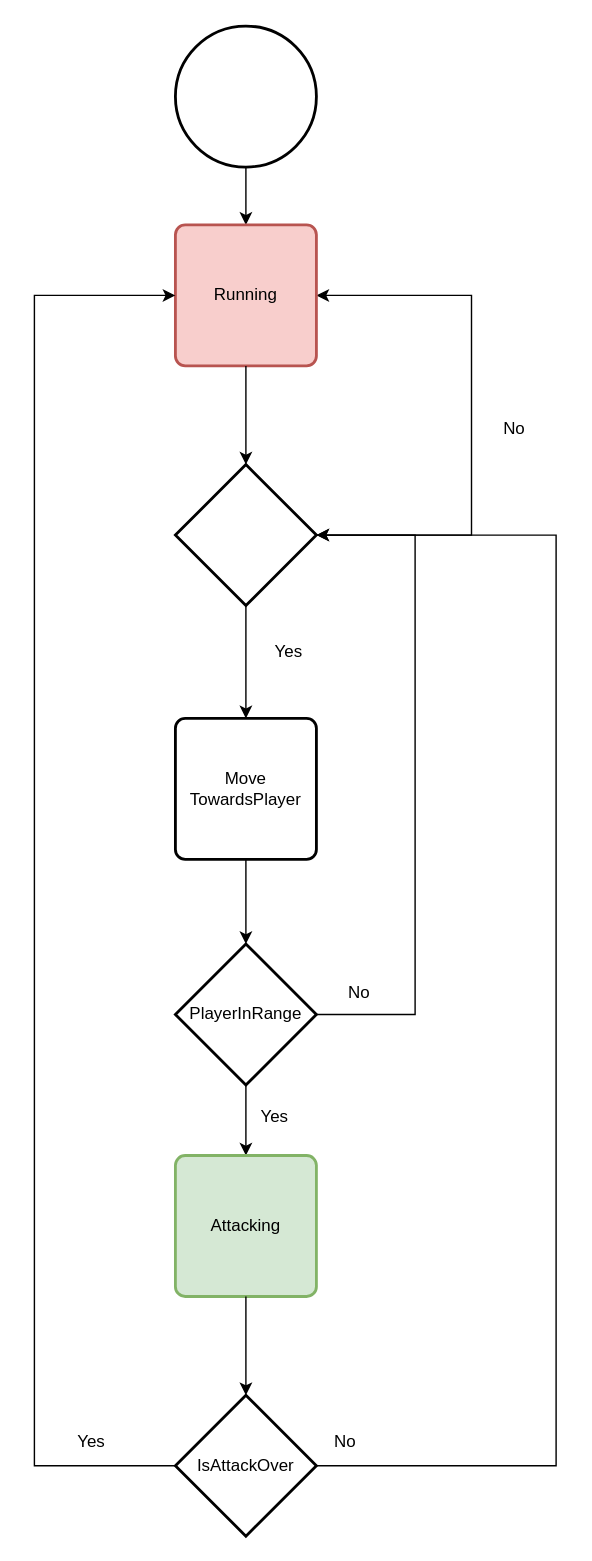
Image size: 592x1561. Some labels were removed from this diagram. The centre of each missing label's shape, as x and y in pixels:
"PlayerInSight" goes at point 245,534.
"Start" goes at point 245,96.
